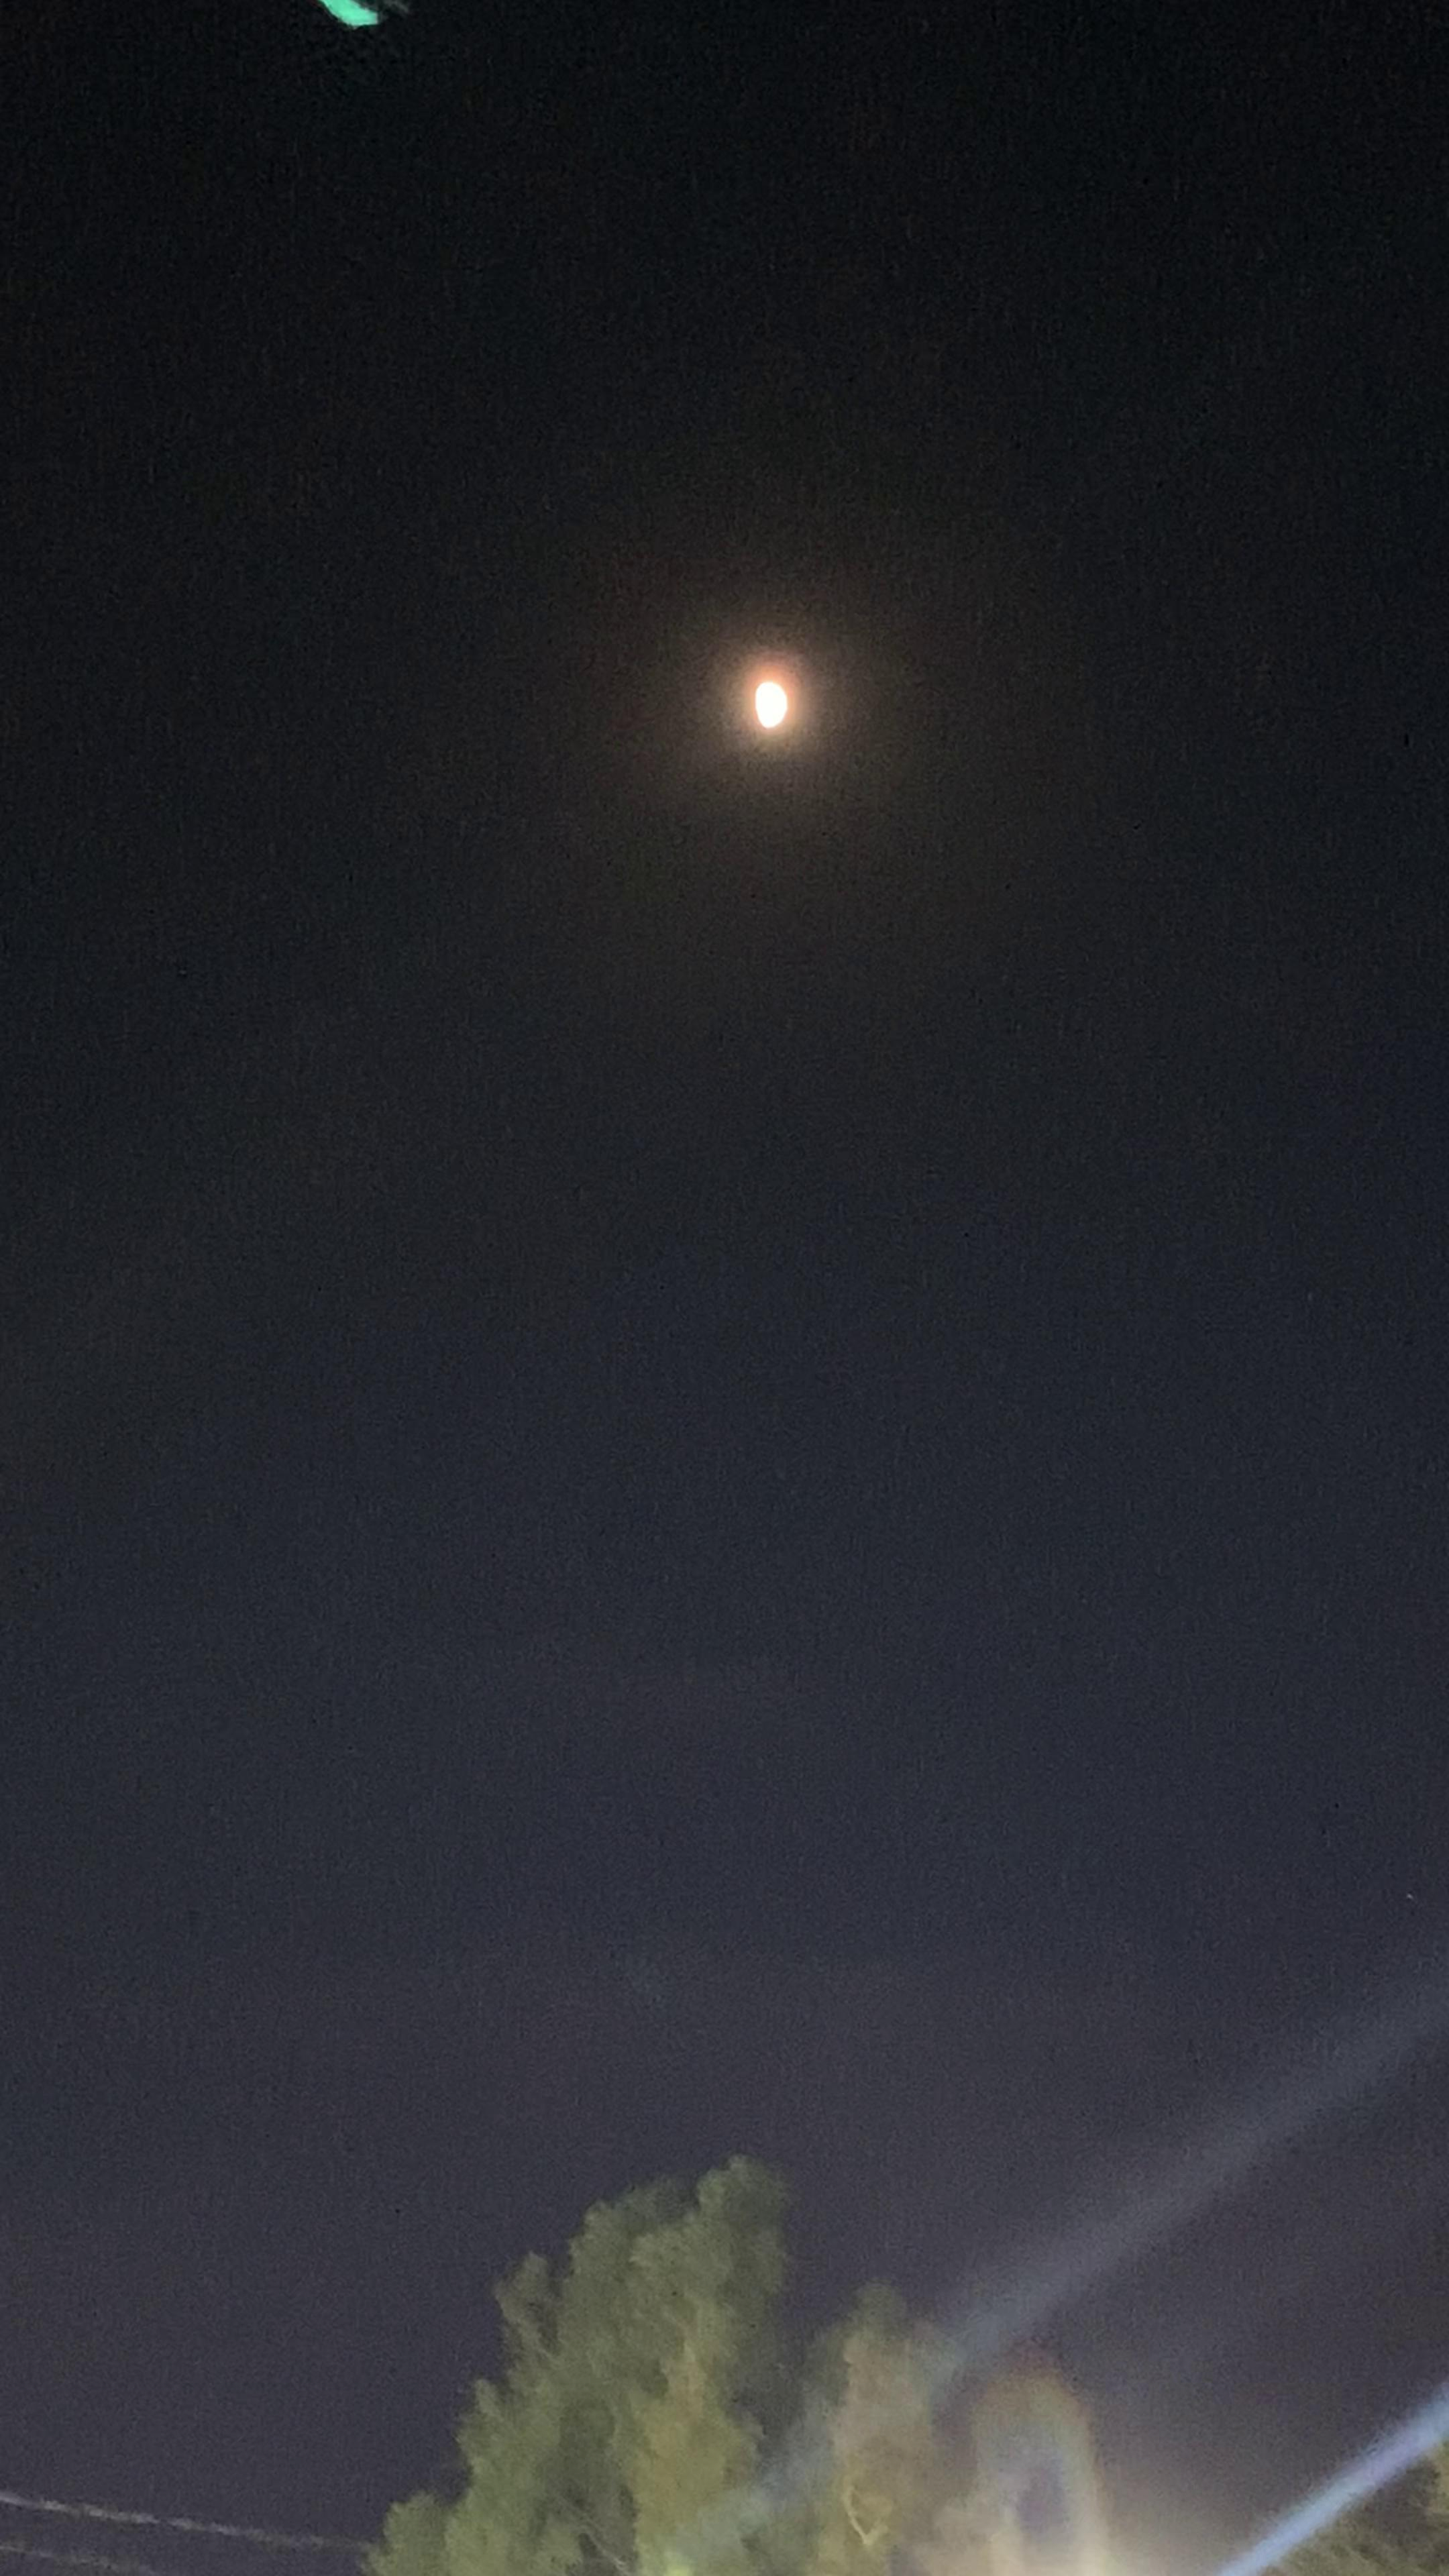moon: (692, 637, 853, 784)
